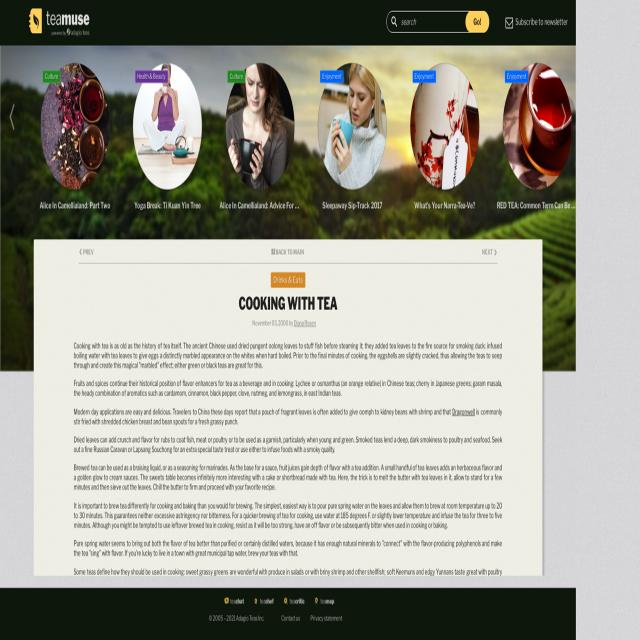button: (40, 63, 111, 191), (226, 63, 296, 192), (133, 61, 202, 190), (318, 63, 387, 189), (410, 64, 479, 190), (505, 64, 570, 194), (24, 5, 97, 42), (552, 95, 574, 138), (5, 92, 21, 143), (270, 272, 306, 288), (466, 11, 490, 33), (135, 70, 168, 83), (320, 68, 344, 82), (505, 70, 529, 83), (412, 70, 436, 82), (42, 70, 61, 83), (228, 70, 245, 83)
field: (386, 11, 465, 33)
